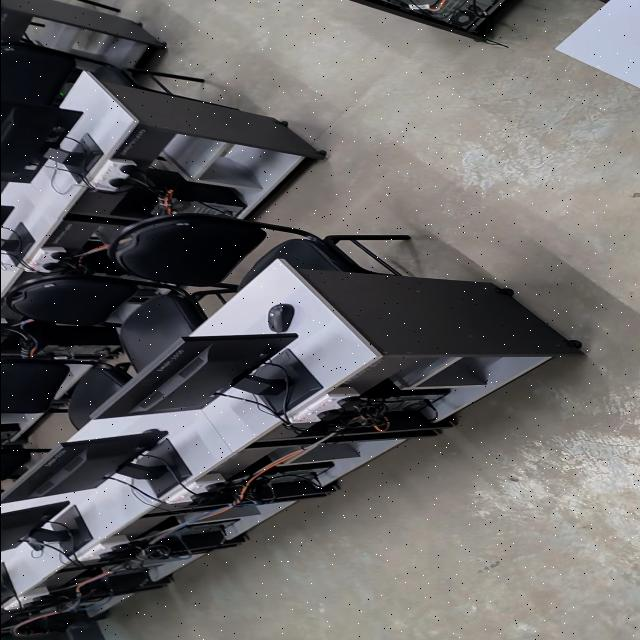Chair: (5, 274, 236, 372), (107, 214, 409, 286), (0, 42, 203, 106), (0, 358, 132, 430)
Cpu: (346, 0, 506, 42), (169, 200, 237, 217), (263, 469, 324, 487), (385, 397, 425, 411), (151, 205, 165, 215)
Monitor: (89, 333, 297, 419), (1, 429, 167, 503), (0, 105, 81, 183), (0, 501, 68, 551), (165, 446, 189, 479)
